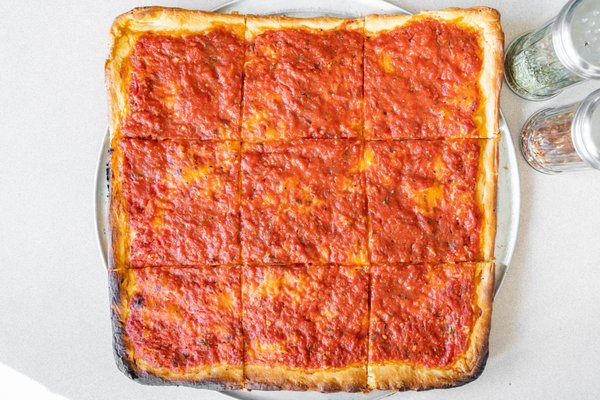sushi: (571, 86, 600, 172)
